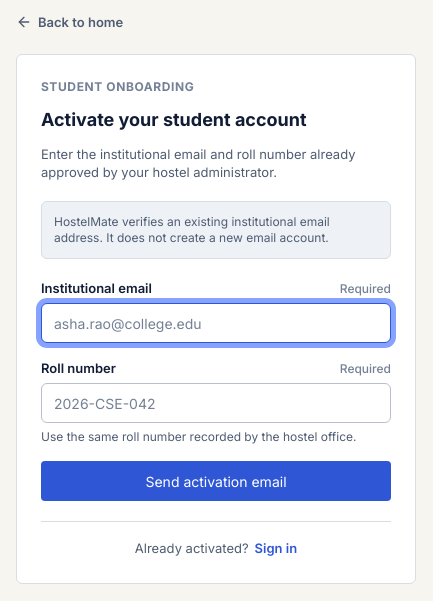
student activation request › normalizes details and always shows the neutral confirmation
Type "ASHA.RAO@COLLEGE.EDU" into the field labelled "Institutional email" at (216, 323), box 41,303 -> 391,343
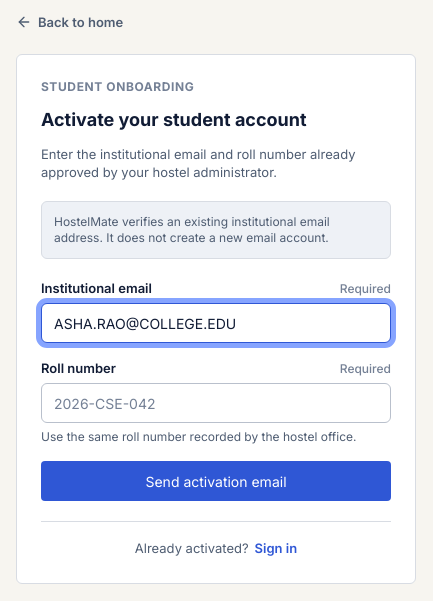
Type "2026   cse 042" into the field labelled "Roll number" at (216, 403), box 41,383 -> 391,423
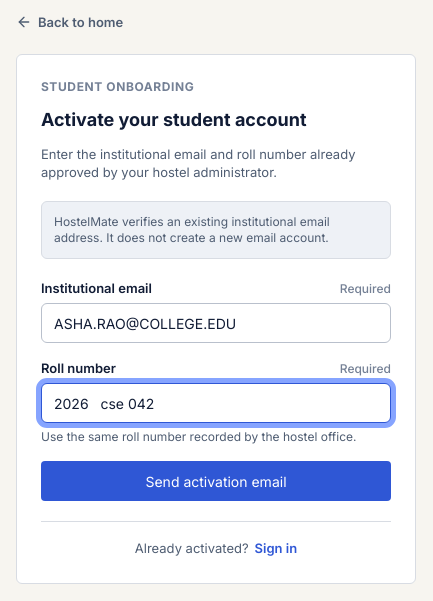
Click the button "Send activation email" at (216, 481), box 41,461 -> 391,501
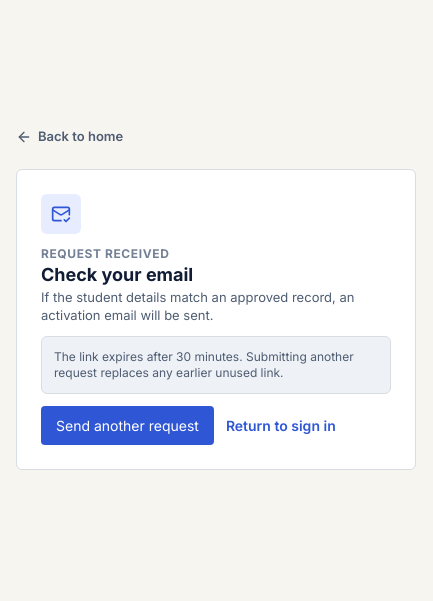
Check: the message shows "If the student details match an approved record", box 41,288 -> 354,322
Check: the button "Send another request" is shown, box 41,406 -> 214,444
